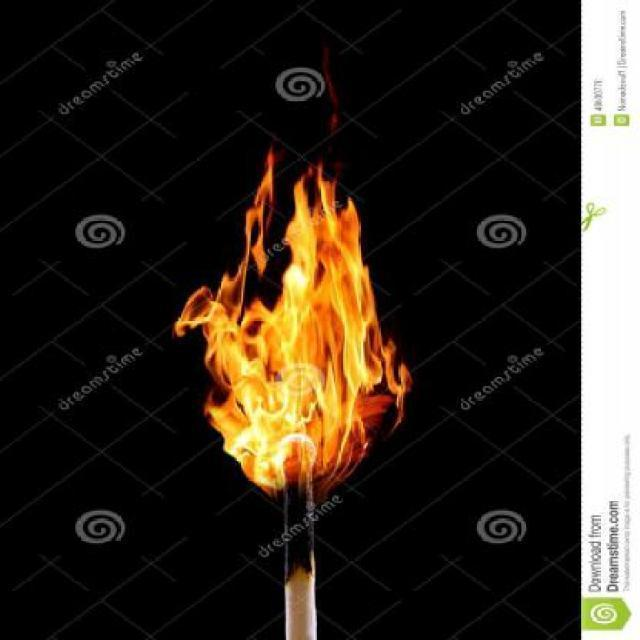Fire: (174, 156, 408, 497)
